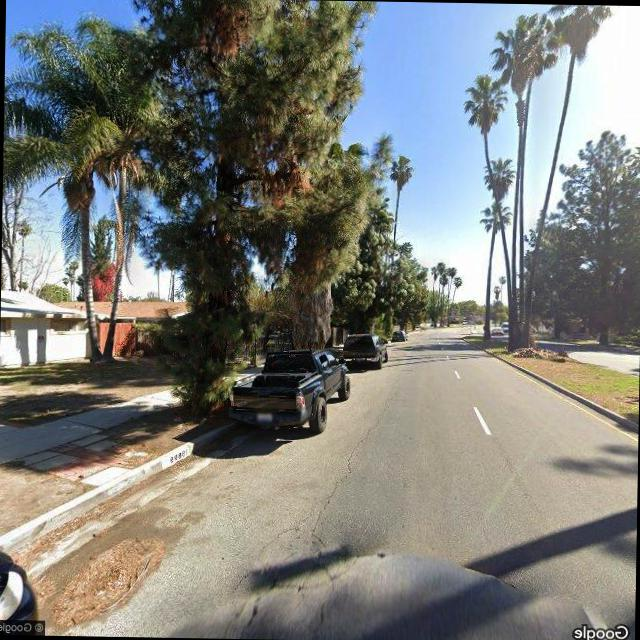crack: (235, 514, 372, 640)
pothole: (297, 400, 392, 550)
